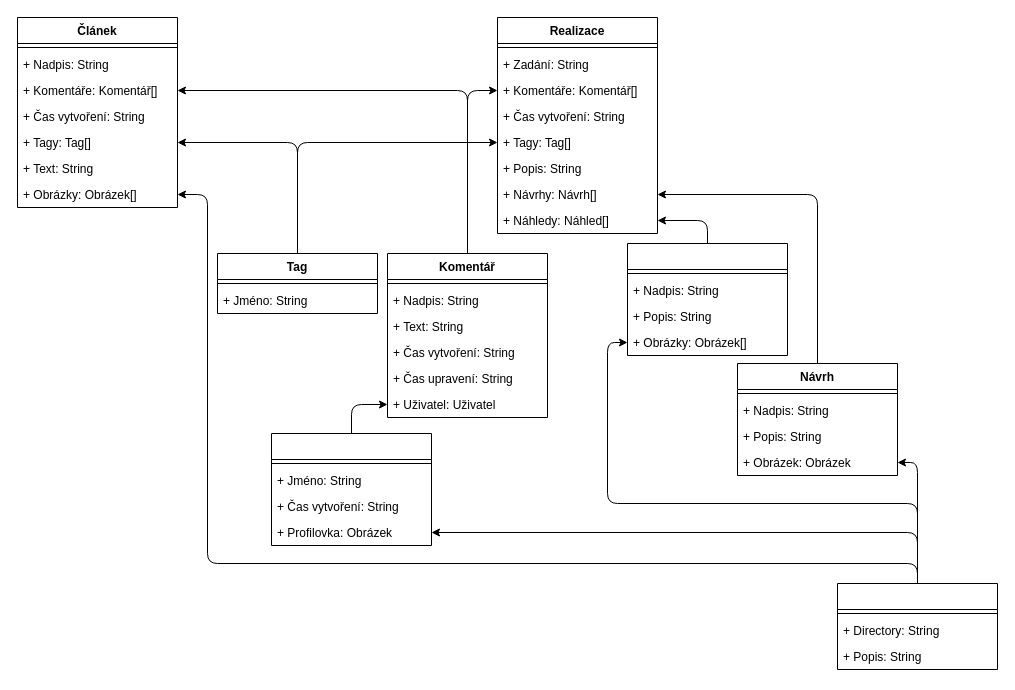
Image size: 1015x690. Some labels were removed from this diagram. The box of each missing label's shape, as (x1, y1, x2, y2) in pixels:
Náhled: (626, 242, 788, 356)
Obrázek: (836, 582, 998, 670)
Uživatel: (270, 432, 432, 546)
